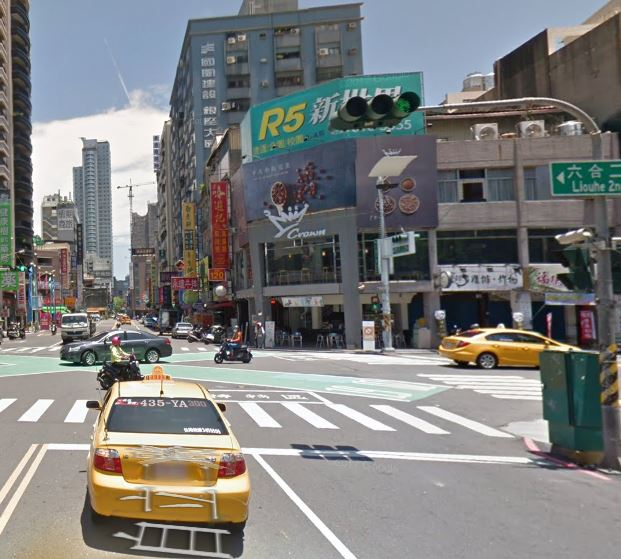Traffic_light_green: (331, 94, 421, 132)
car: (84, 376, 254, 532), (59, 323, 175, 364)
